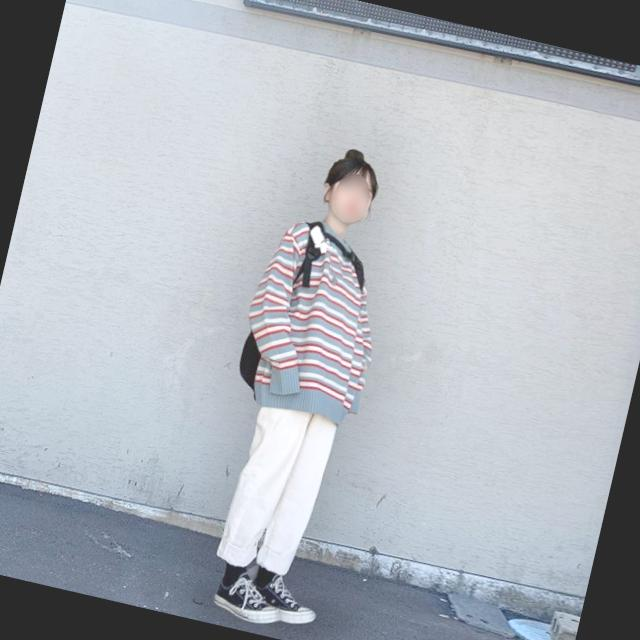cottonpants: (214, 398, 338, 582)
sweater: (224, 204, 399, 425)
